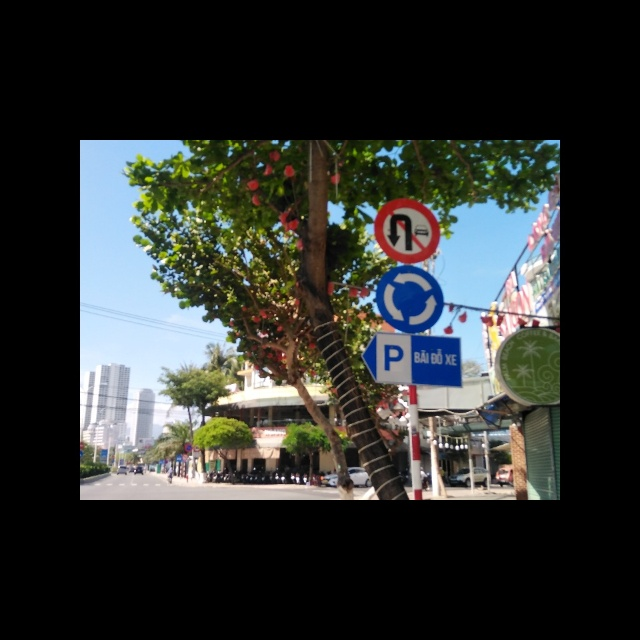Cấm xe ô tô quay đầu: (373, 198, 442, 263)
Nơi giao nhau chạy theo vòng xuyến: (377, 265, 445, 335)
Nơi đỗ xe: (361, 335, 463, 386)
